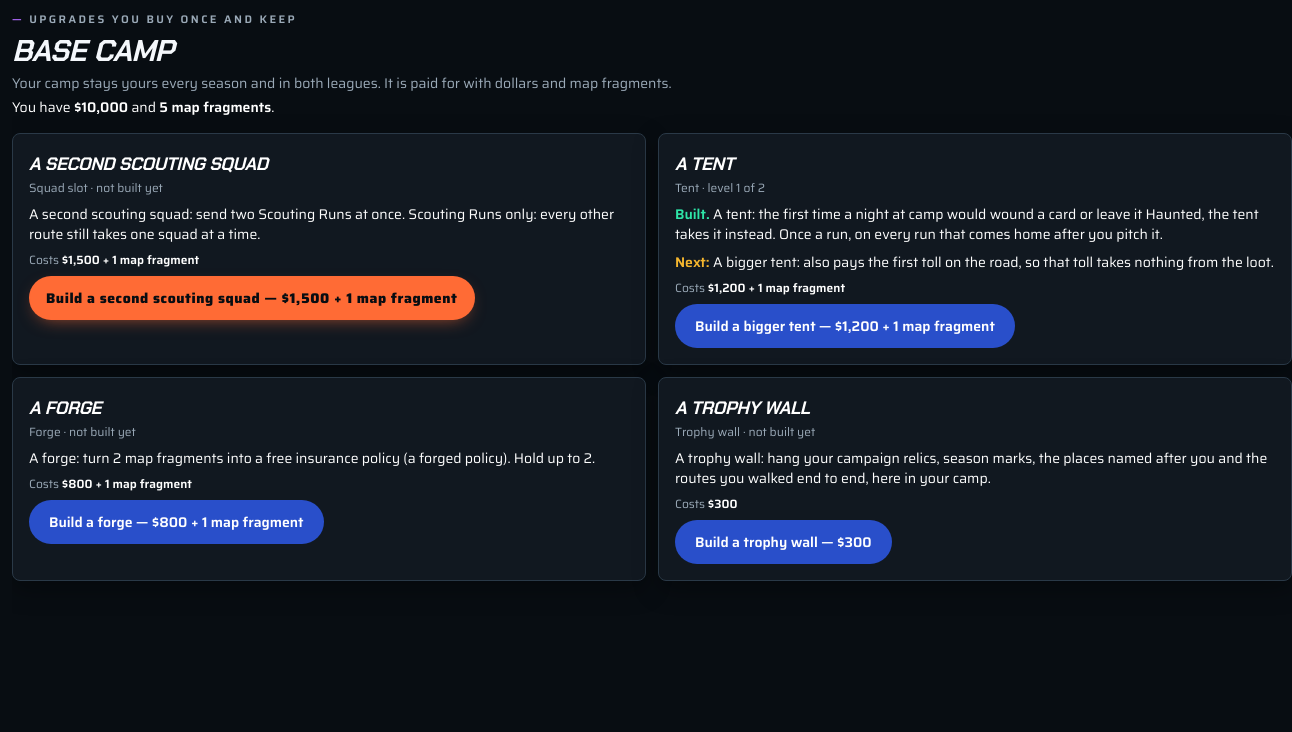
Test: CampPanel actions › submits the displayed upgrade level and shows an authoritative refusal
Click the button "Build a bigger tent — $1,200 + 1 map fragment": (845,326) 675,304 -> 1015,348
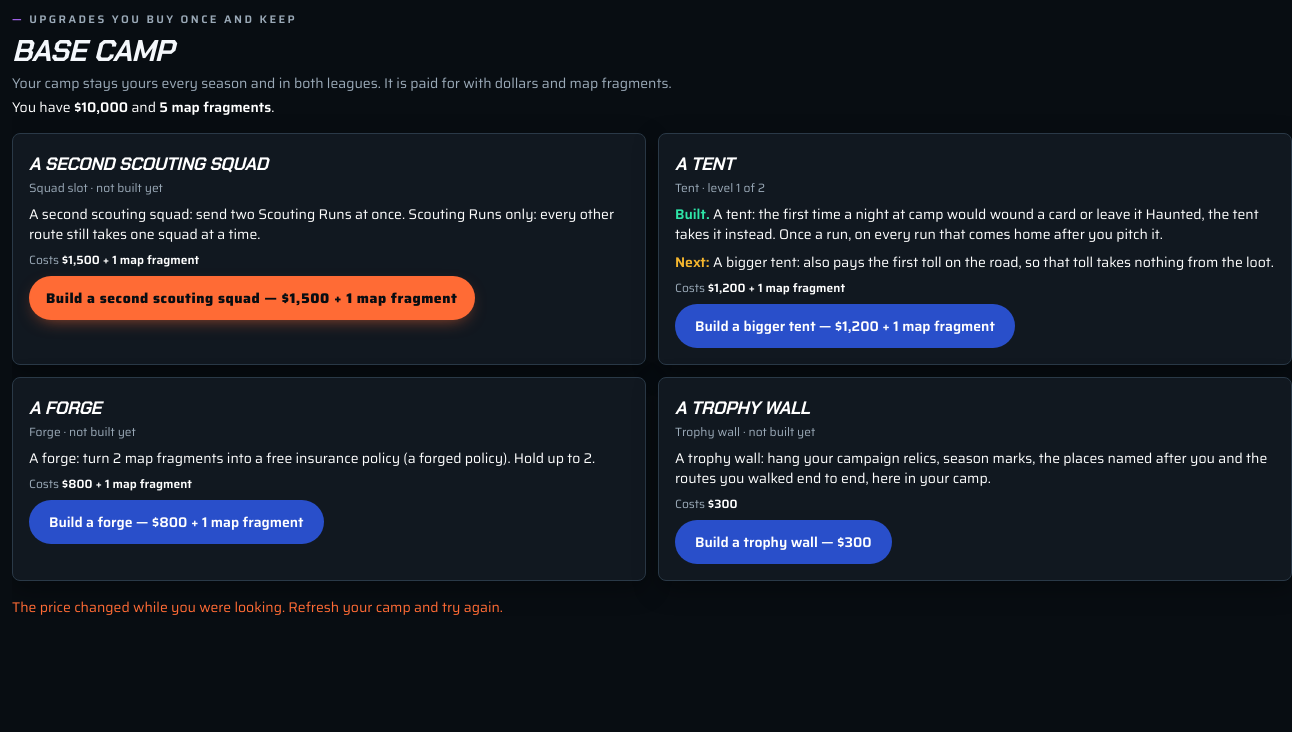
Expected: the message shows "The price changed", 12,596 -> 503,618
